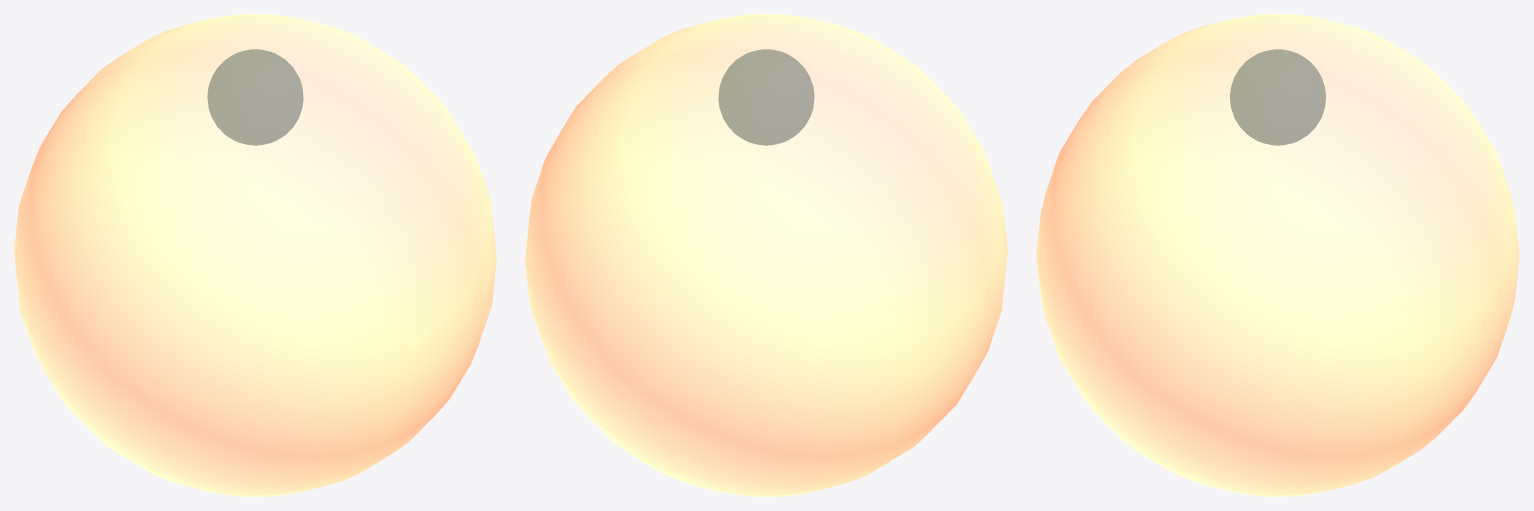
Rendered from eggggggggg.fbx.
3 views of the same model, side by side, from view 1: azimuth 30°, elevation 25°; view 2: azimuth 150°, elevation 25°; view 3: azimuth 270°, elevation 25° (orthographic).
Parts seen in each view (by area): view 1: Sphere, Sphere.001; view 2: Sphere, Sphere.001; view 3: Sphere, Sphere.001.
Boxes of the visible parts, x1=… form: Sphere: x1=14, y1=14, x2=496, y2=496; Sphere.001: x1=207, y1=49, x2=303, y2=145; Sphere: x1=525, y1=14, x2=1007, y2=496; Sphere.001: x1=718, y1=49, x2=814, y2=145; Sphere: x1=1036, y1=14, x2=1519, y2=496; Sphere.001: x1=1230, y1=49, x2=1325, y2=145.
Size of the model in its own units: 200 by 200 by 200.
